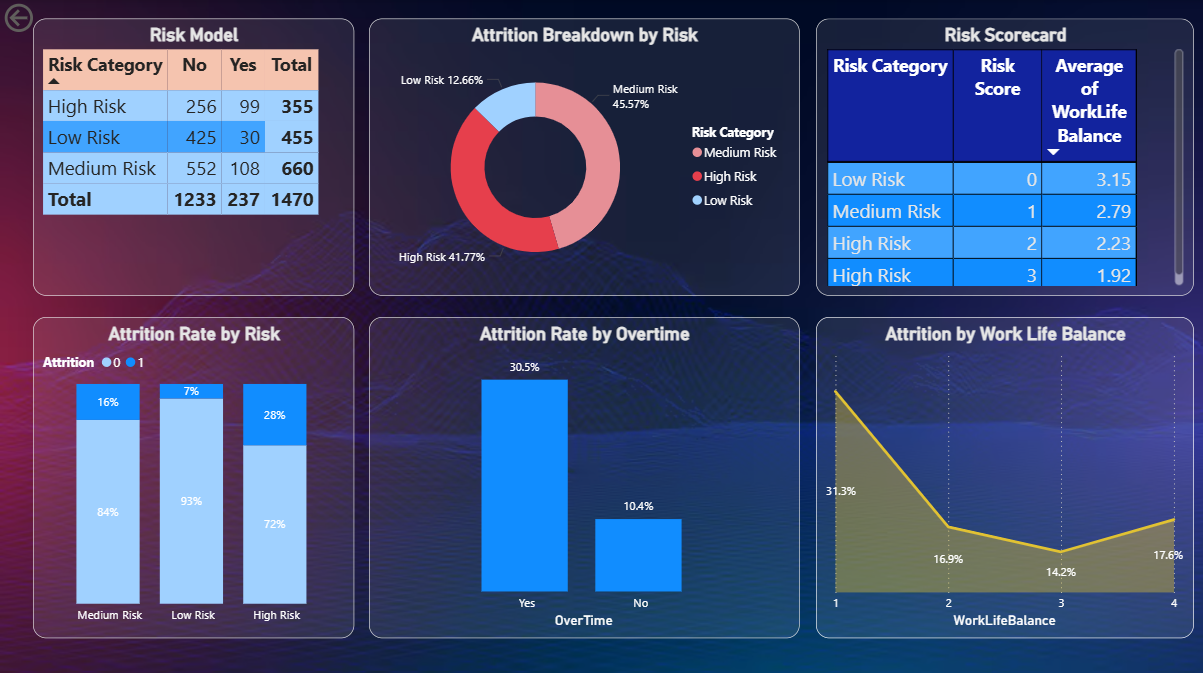

The dashboard page shown, as its layout file describes it:
{"tool":"powerbi","page":{"name":"Page 2","canvas":[1280,720],"ordinal":1},"visuals":[{"type":"pivotTable","title":"Risk Model","fields":{"Rows":["HR_Analytics.Risk Category"],"Columns":["HR_Analytics.Attrition"],"Values":["CountNonNull(HR_Analytics.EmpID)"]},"box":[35,20.7,340.4,294.3],"z":0},{"type":"donutChart","title":"Attrition Breakdown by Risk ","fields":{"Y":["Sum(HR_Analytics.AttritionCount)"],"Category":["HR_Analytics.Risk Category"]},"box":[391.3,20.7,456.5,294.3],"z":1000},{"type":"hundredPercentStackedColumnChart","title":"Attrition Rate by Risk","fields":{"Category":["HR_Analytics.Risk Category"],"Series":["HR_Analytics.AttritionCount"],"Y":["CountNonNull(HR_Analytics.EmpID)"]},"box":[35,337.2,340.4,340.4],"z":2000},{"type":"clusteredColumnChart","title":"Attrition Rate by Overtime ","fields":{"Category":["HR_Analytics.OverTime"],"Y":["HR_Analytics.AttritionRate"]},"box":[391.3,337.2,456.5,340.4],"z":3000},{"type":"stackedAreaChart","title":"Attrition by Work Life Balance","fields":{"Category":["HR_Analytics.WorkLifeBalance"],"Y":["HR_Analytics.AttritionRate"]},"box":[865.3,337.2,400.8,340.4],"z":4000},{"type":"actionButton","box":[0,0,100,40],"z":5000},{"type":"tableEx","title":"Risk Scorecard","fields":{"Values":["HR_Analytics.Risk Category","HR_Analytics.Risk Score","Avg(HR_Analytics.WorkLifeBalance)"]},"box":[865.3,20.7,400.8,294.3],"z":6000}]}

Visuals, with their boxes in screenshot pixels (x1, y1, x2, y2), scaled from the page's 1280x720 canvas onto the 1203x673 screenshot:
"Risk Model" pivotTable: region(33, 19, 353, 294)
"Attrition Breakdown by Risk " donutChart: region(368, 19, 797, 294)
"Attrition Rate by Risk" hundredPercentStackedColumnChart: region(33, 315, 353, 633)
"Attrition Rate by Overtime " clusteredColumnChart: region(368, 315, 797, 633)
"Attrition by Work Life Balance" stackedAreaChart: region(813, 315, 1190, 633)
actionButton: region(0, 0, 94, 37)
"Risk Scorecard" tableEx: region(813, 19, 1190, 294)
